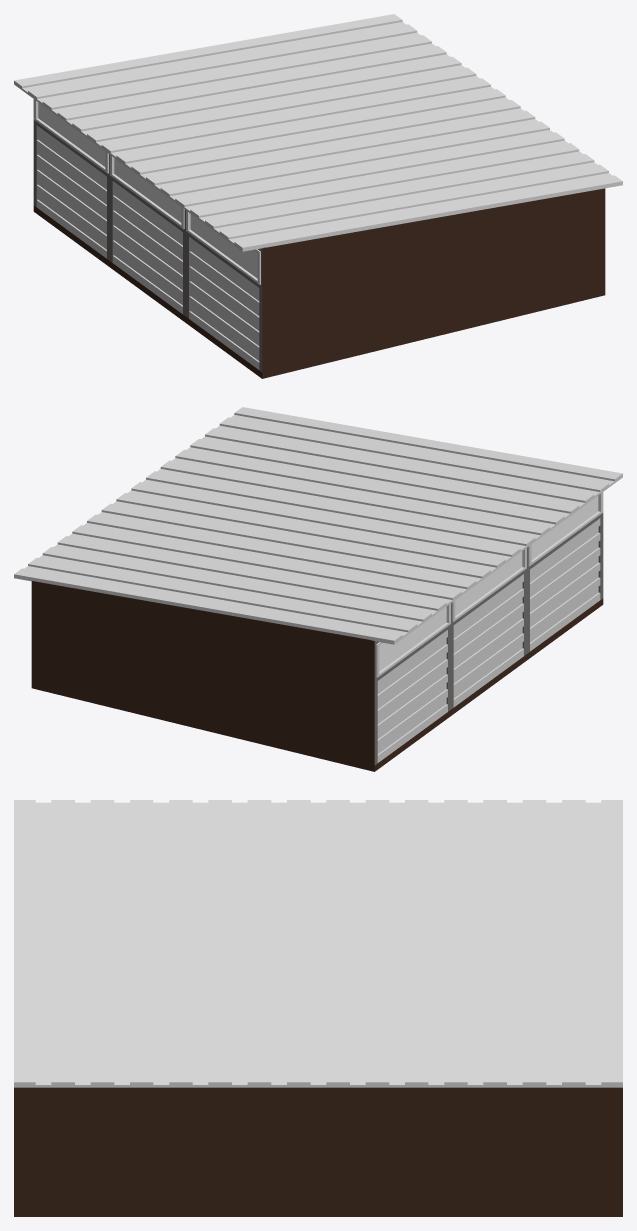
File: garage 1.fbx
The picture shows the model from 3 angles, top to bottom: view 1: azimuth 30°, elevation 25°; view 2: azimuth 150°, elevation 25°; view 3: azimuth 270°, elevation 25°; orthographic projection. The views are drawn at different scales.
Visible parts, largest first — view 1: Cube.001, DoorPanel1.002, DoorPanel1.001, DoorPanel1, Plane.001, Plane, Plane.002, DoorPanel3.002, DoorPanel4.002, DoorPanel2.002, DoorPanel2.001, DoorPanel4.001 (+10 smaller); view 2: Cube.001, DoorPanel1, DoorPanel1.001, DoorPanel1.002, Plane.002, Plane, Plane.001, DoorPanel3.001, DoorPanel2, DoorPanel4, DoorPanel2.001, DoorPanel3 (+10 smaller); view 3: Cube.001.
Part boxes in pixels (x1,y1,x2,y2): Cube.001: (14,14,622,378); DoorPanel1.002: (189,297,259,369); DoorPanel1.001: (36,185,106,258); DoorPanel1: (112,241,182,314); Plane.001: (190,214,257,278); Plane: (114,158,181,222); Plane.002: (38,102,105,166); DoorPanel3.002: (189,267,259,332); DoorPanel4.002: (189,252,259,317); DoorPanel2.002: (189,282,259,347); DoorPanel2.001: (36,170,106,235); DoorPanel4.001: (36,140,106,205); Cube.001: (14,407,622,771); DoorPanel1: (453,634,523,707); DoorPanel1.001: (377,690,447,762); DoorPanel1.002: (530,578,600,651); Plane.002: (379,607,446,671); Plane: (455,551,522,615); Plane.001: (531,496,598,559); DoorPanel3.001: (377,660,447,725); DoorPanel2: (453,619,523,684); DoorPanel4: (453,589,523,654); DoorPanel2.001: (377,675,447,740); DoorPanel3: (453,604,523,669); Cube.001: (14,800,622,1216).
Bounding box in the file's own units: 10.44 × 3.57 × 10.87.
